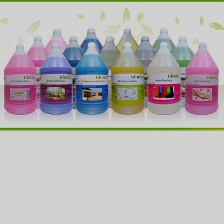cleaning_solution: (125, 34, 166, 109), (164, 33, 204, 109), (145, 40, 183, 117), (2, 40, 40, 116), (182, 40, 220, 116), (18, 32, 54, 110), (74, 40, 110, 116), (109, 40, 145, 116), (54, 32, 90, 108), (38, 41, 74, 116), (90, 33, 126, 108), (39, 23, 74, 90), (145, 25, 181, 90), (74, 26, 110, 90), (111, 24, 145, 90)
